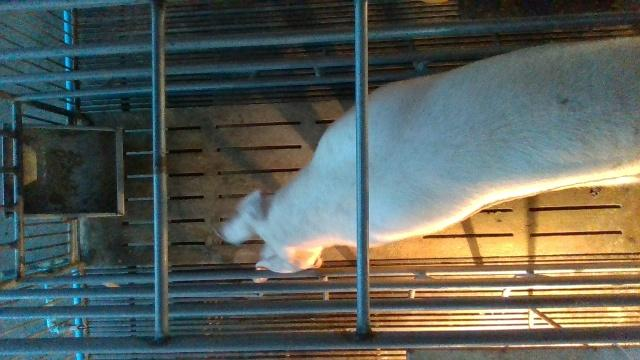sow-stand: (213, 39, 640, 284)
